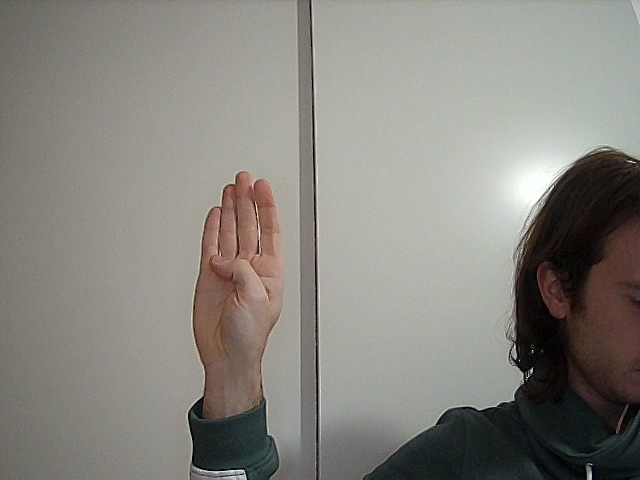b: (173, 161, 303, 383)
